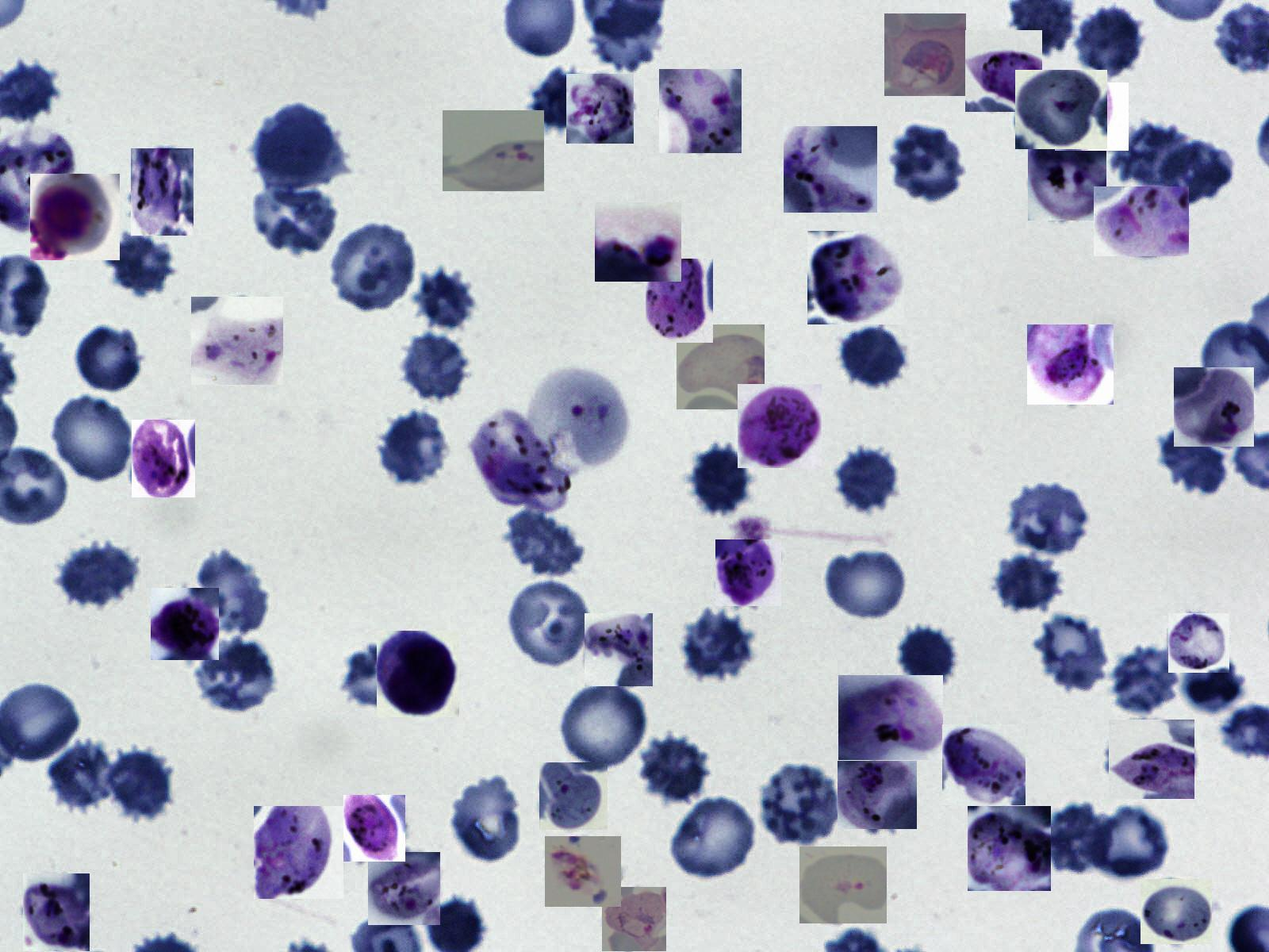Infected: (523, 367, 630, 472), (471, 412, 569, 506), (807, 231, 904, 324), (838, 675, 943, 760), (254, 806, 343, 899), (443, 110, 544, 191), (191, 297, 283, 385), (784, 126, 877, 213), (30, 174, 120, 260), (677, 324, 765, 409), (1015, 70, 1107, 149), (738, 384, 822, 468), (968, 806, 1051, 891), (377, 631, 459, 717), (1027, 324, 1114, 405), (659, 69, 742, 153), (595, 202, 681, 282), (884, 13, 966, 96), (942, 724, 1026, 805), (799, 846, 887, 923), (1109, 720, 1194, 799), (1094, 186, 1189, 256), (1174, 367, 1254, 447), (965, 31, 1042, 112), (1028, 144, 1106, 221), (646, 259, 714, 343), (131, 148, 194, 236), (545, 836, 621, 907), (838, 761, 917, 829), (23, 873, 90, 951), (369, 852, 440, 925), (1055, 83, 1129, 151), (585, 613, 653, 686), (151, 588, 219, 660), (132, 420, 195, 497), (566, 74, 634, 144), (539, 762, 608, 830), (1141, 879, 1212, 944), (715, 539, 781, 606), (343, 795, 405, 862), (602, 887, 666, 951), (1168, 613, 1229, 673)
Uninfected: (559, 678, 651, 770), (326, 221, 420, 311), (50, 390, 137, 485), (505, 578, 594, 668), (254, 104, 342, 192), (669, 797, 759, 881), (192, 545, 270, 636), (1031, 612, 1115, 696), (756, 764, 844, 844), (448, 777, 527, 866), (1006, 479, 1094, 557), (251, 182, 340, 255), (194, 635, 275, 714), (1083, 805, 1167, 881), (825, 546, 910, 621), (891, 123, 967, 205), (57, 538, 140, 612), (1157, 425, 1235, 501), (677, 606, 756, 680), (379, 411, 455, 486), (71, 321, 147, 393), (102, 744, 173, 821), (832, 443, 906, 516), (398, 332, 472, 404), (838, 321, 911, 393), (1040, 806, 1110, 881), (640, 734, 710, 808), (1113, 124, 1195, 187), (504, 512, 582, 578), (98, 228, 176, 294), (47, 737, 114, 812), (688, 442, 754, 518), (1076, 4, 1144, 77), (991, 550, 1064, 615), (1155, 144, 1235, 202), (342, 643, 413, 708), (1115, 647, 1180, 714), (890, 624, 957, 688), (531, 67, 592, 133), (413, 266, 477, 327), (1184, 662, 1244, 717)
